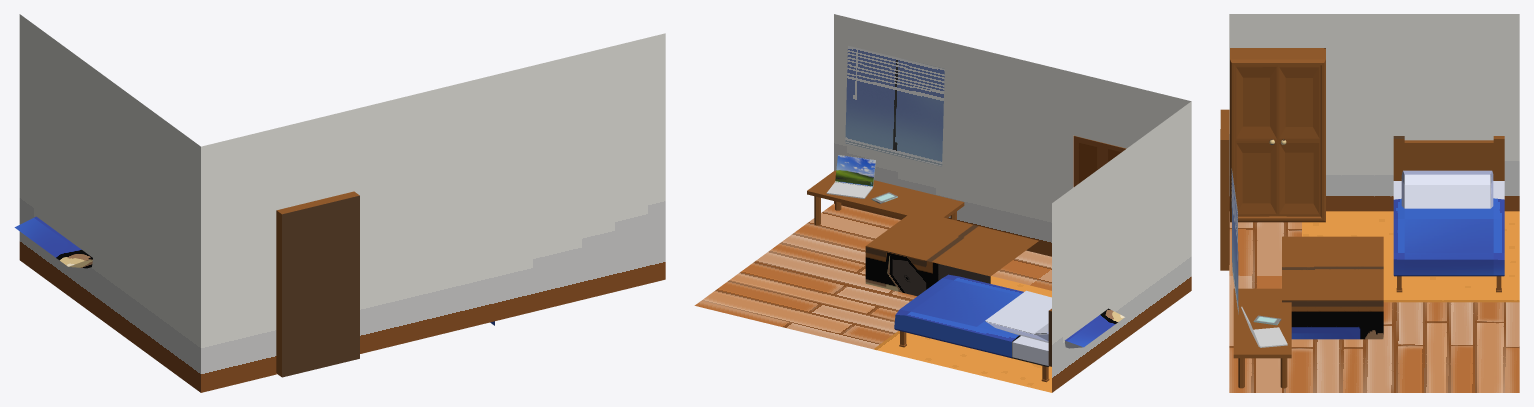
Rendered from Bedroom_Attempt_1.glb.
3 renders of one model, left to right at view 1: azimuth 30°, elevation 25°; view 2: azimuth 150°, elevation 25°; view 3: azimuth 270°, elevation 25°, orthographic. The views are drawn at different scales.
Parts seen in each view (by area): view 1: back wall.001, door, Cube.002; view 2: back wall.001, Plane, disapear wall, bed, Cube.002, table, laptop, door; view 3: back wall.001, dresser, bed, disapear wall, table, Cube.002, door, Plane, laptop.
Boxes of the visible parts, x1=… form: back wall.001: x1=19, y1=14, x2=665, y2=392; door: x1=276, y1=191, x2=359, y2=377; Cube.002: x1=14, y1=216, x2=92, y2=268; back wall.001: x1=694, y1=14, x2=1191, y2=392; Plane: x1=845, y1=46, x2=944, y2=166; disapear wall: x1=865, y1=210, x2=1038, y2=296; bed: x1=894, y1=274, x2=1051, y2=382; Cube.002: x1=985, y1=290, x2=1124, y2=348; table: x1=807, y1=170, x2=964, y2=225; laptop: x1=826, y1=155, x2=875, y2=198; door: x1=1073, y1=135, x2=1126, y2=187; back wall.001: x1=1229, y1=14, x2=1519, y2=392; dresser: x1=1230, y1=48, x2=1325, y2=222; bed: x1=1393, y1=136, x2=1504, y2=292; disapear wall: x1=1282, y1=236, x2=1383, y2=339; table: x1=1233, y1=288, x2=1291, y2=388; Cube.002: x1=1401, y1=170, x2=1493, y2=208; door: x1=1220, y1=109, x2=1229, y2=270; Plane: x1=1231, y1=168, x2=1238, y2=314; laptop: x1=1241, y1=306, x2=1287, y2=347.
Size of the model in its own units: 11.13 by 6.18 by 7.38.
14 materials, 13 textured.
